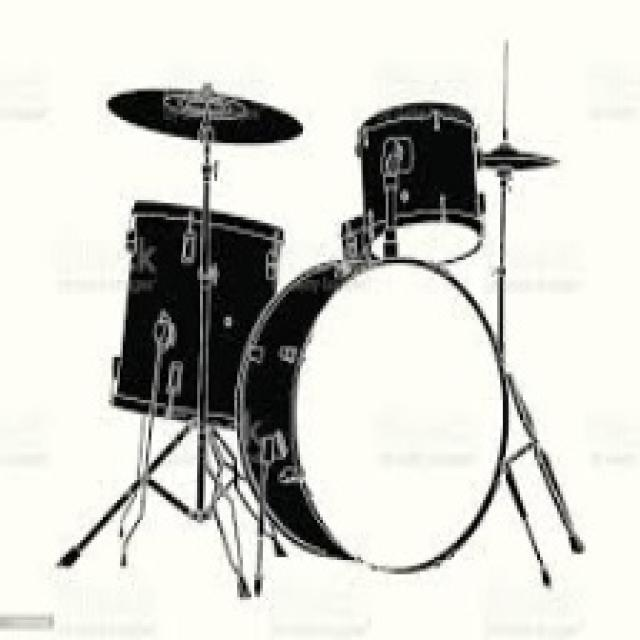drums: (102, 76, 584, 587)
